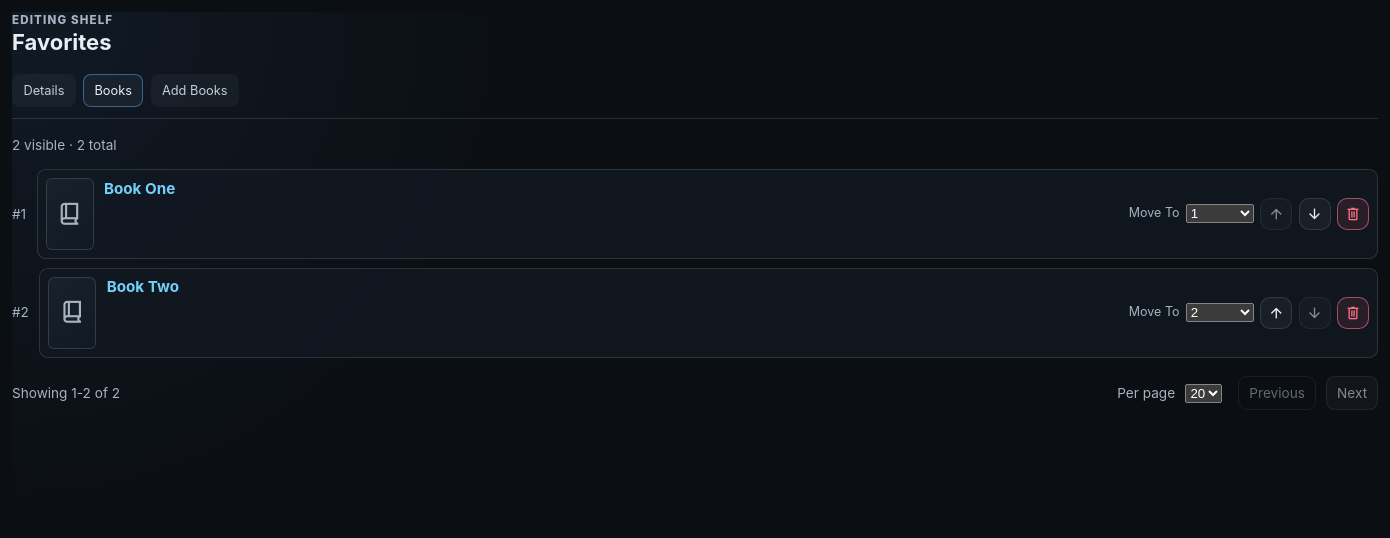
Test: ShelfEditOrchestrator item mutations › preserves authoritative order when a move fails
Click the button named "Move Book One down" at point(1315, 214), box [1299,198,1331,230]
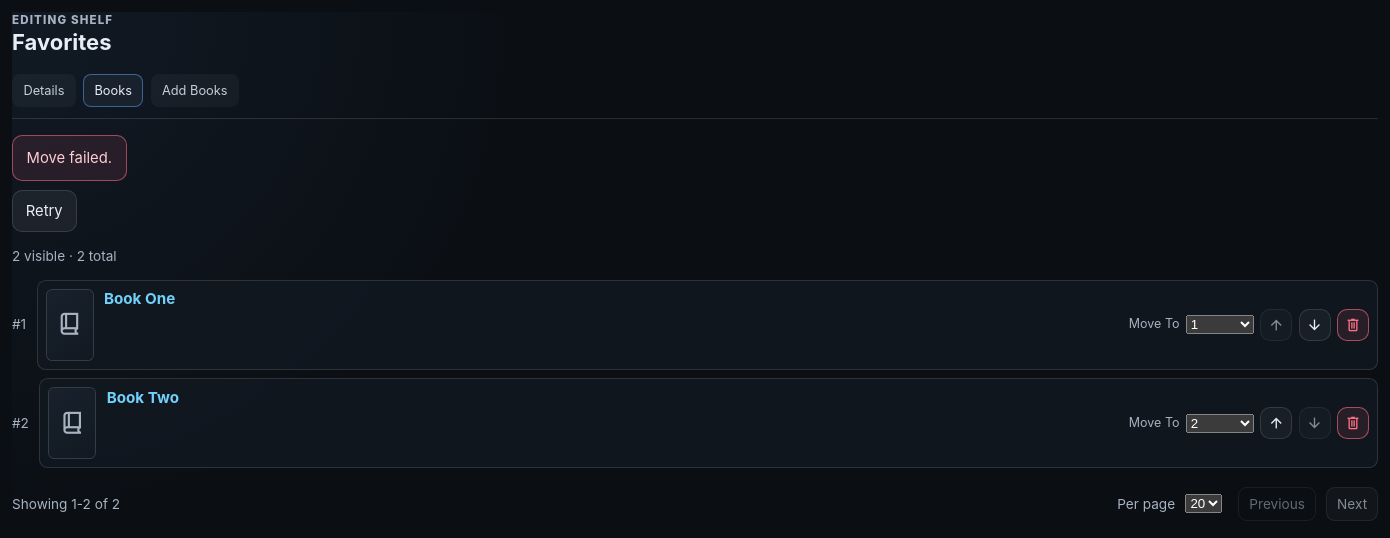
Expected: the message "Move failed." is shown, [12,135,127,181]
